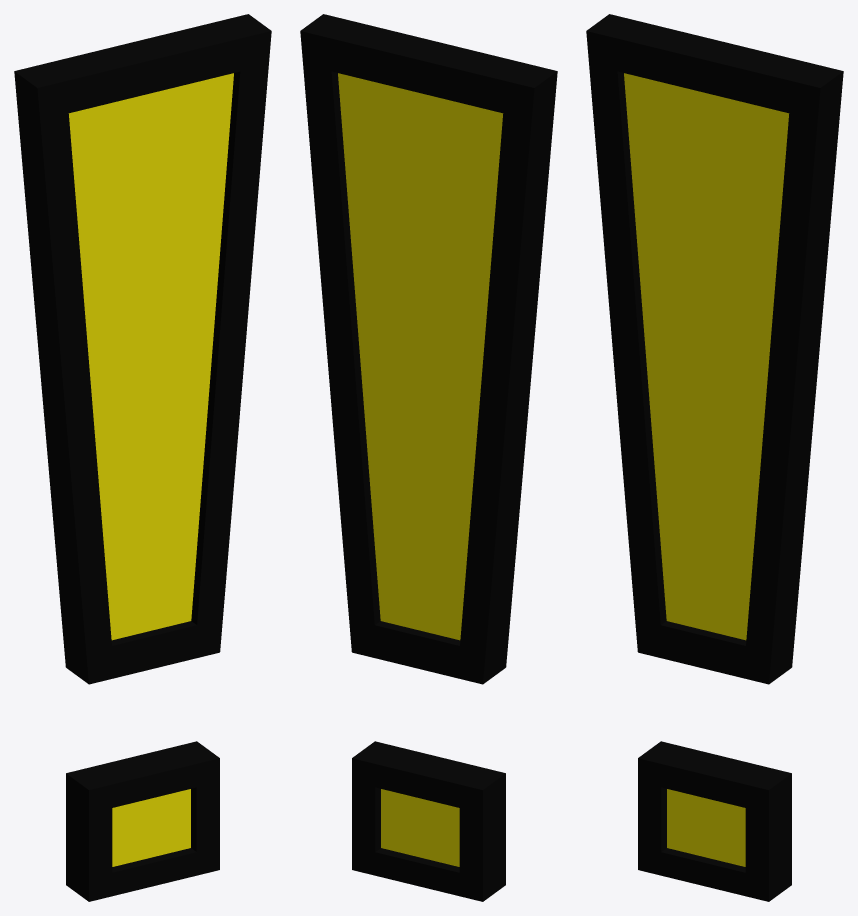
File: Exclamation_Mark_001.FBX
The picture shows the model from 3 angles, left to right: view 1: azimuth 30°, elevation 25°; view 2: azimuth 150°, elevation 25°; view 3: azimuth 330°, elevation 25°; orthographic projection.
Visible parts, largest first — view 1: Exclamation_Mark_001; view 2: Exclamation_Mark_001; view 3: Exclamation_Mark_001.
Boxes of the visible parts, <box> form: Exclamation_Mark_001: <box>14,14,271,901</box>; Exclamation_Mark_001: <box>300,14,557,901</box>; Exclamation_Mark_001: <box>586,14,843,901</box>.
Size of the model in its own units: 23.37 by 4 by 78.76.
